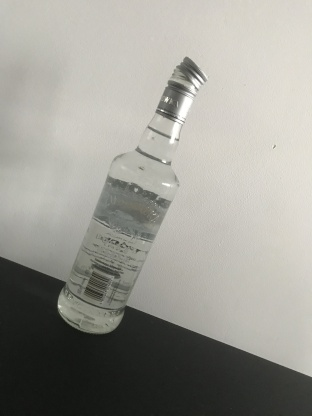nakretka: (153, 53, 209, 128)
